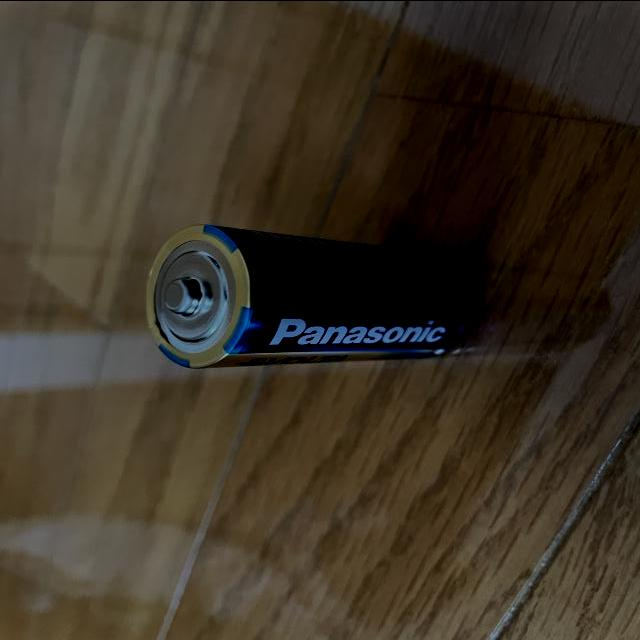AA: (139, 219, 492, 372)
